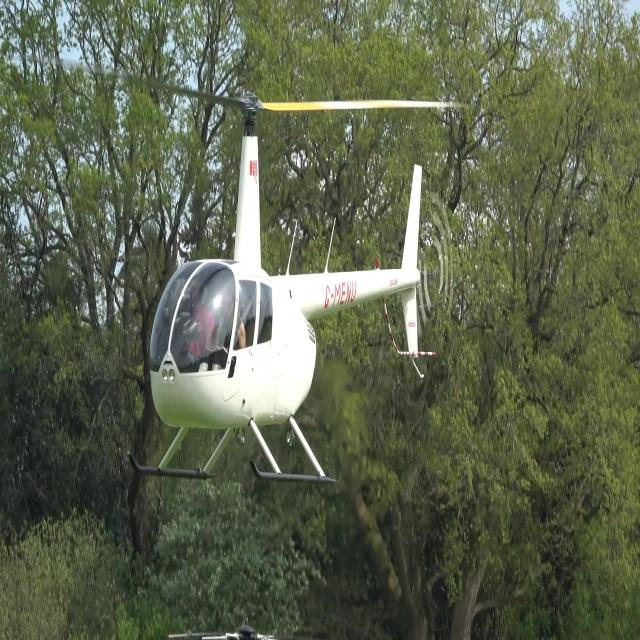CIV_HELO: (126, 87, 425, 488)
